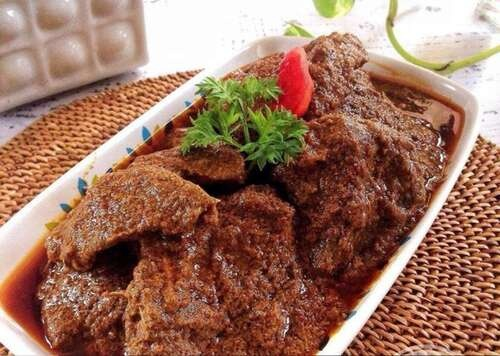rendang: (37, 30, 447, 356)
